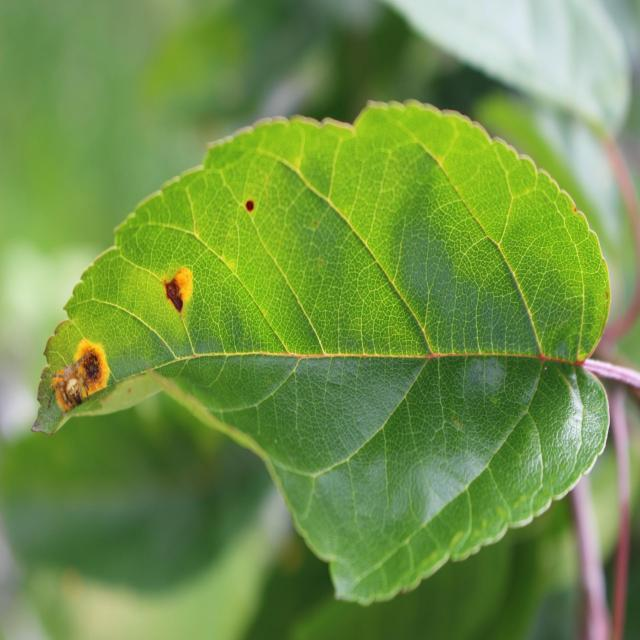Rust: (36, 306, 119, 438), (157, 245, 208, 336)
